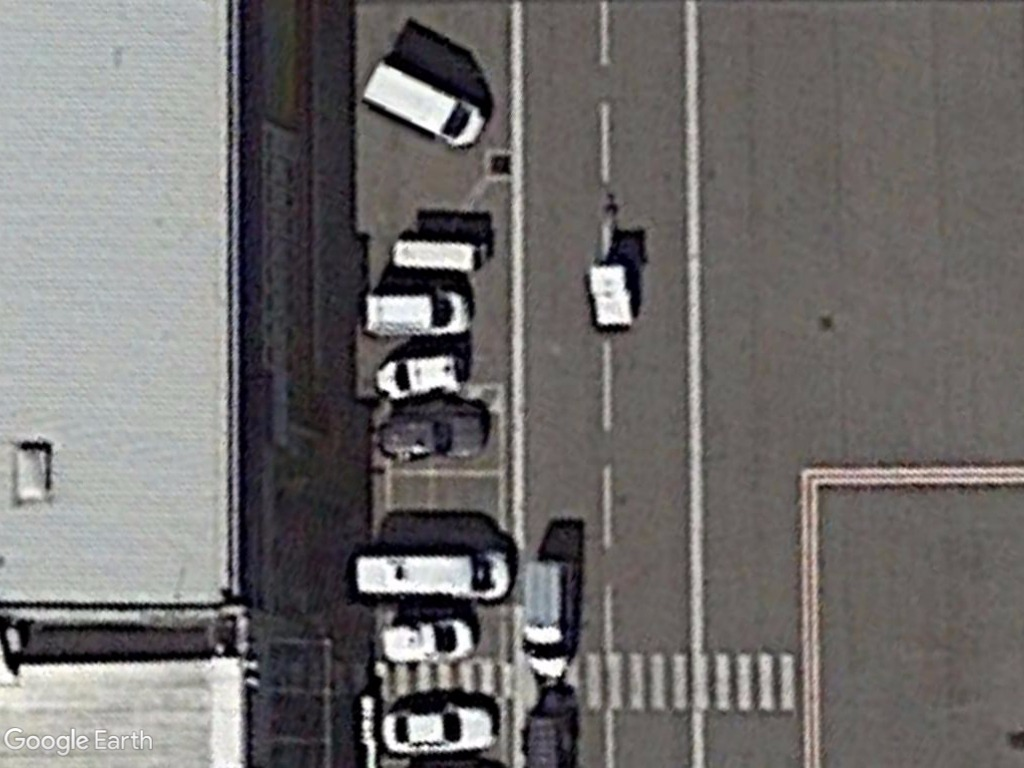car: (381, 701, 504, 759), (376, 408, 491, 462), (374, 614, 481, 667), (370, 353, 469, 403)
van: (358, 59, 492, 155), (349, 541, 513, 604), (515, 558, 579, 682), (362, 285, 477, 341)
